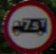Heavy Vehicles: (3, 4, 53, 50)
